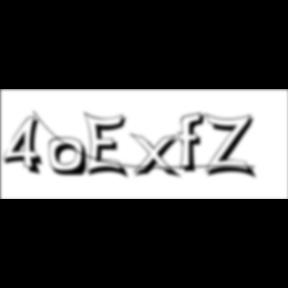4: (2, 115, 50, 179)
E: (84, 110, 134, 182)
Z: (206, 112, 260, 181)
f: (178, 111, 210, 175)
o: (48, 137, 90, 179)
x: (131, 132, 186, 181)
